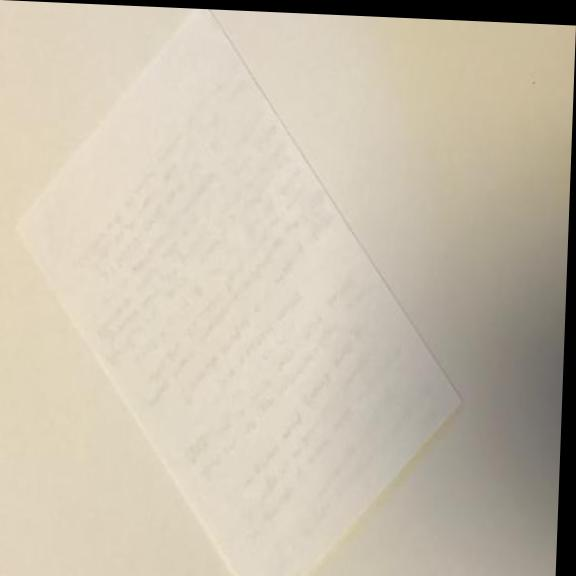Kertas: (3, 1, 482, 576)
